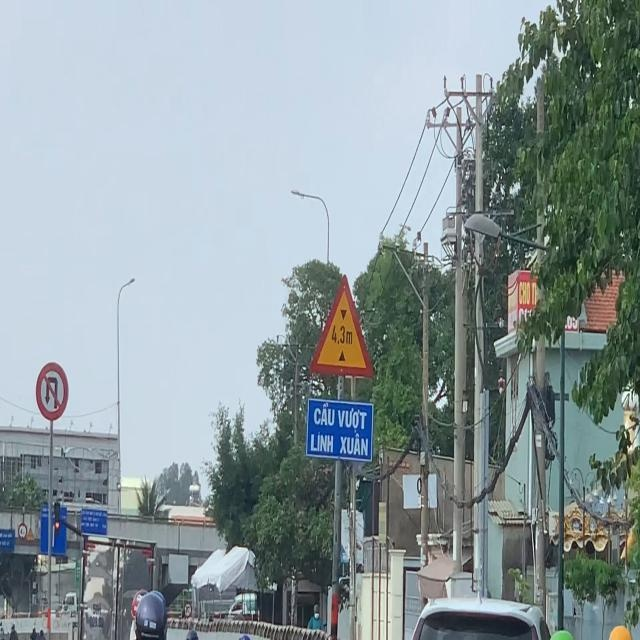bien_cam: (307, 270, 378, 380), (34, 358, 73, 426)
